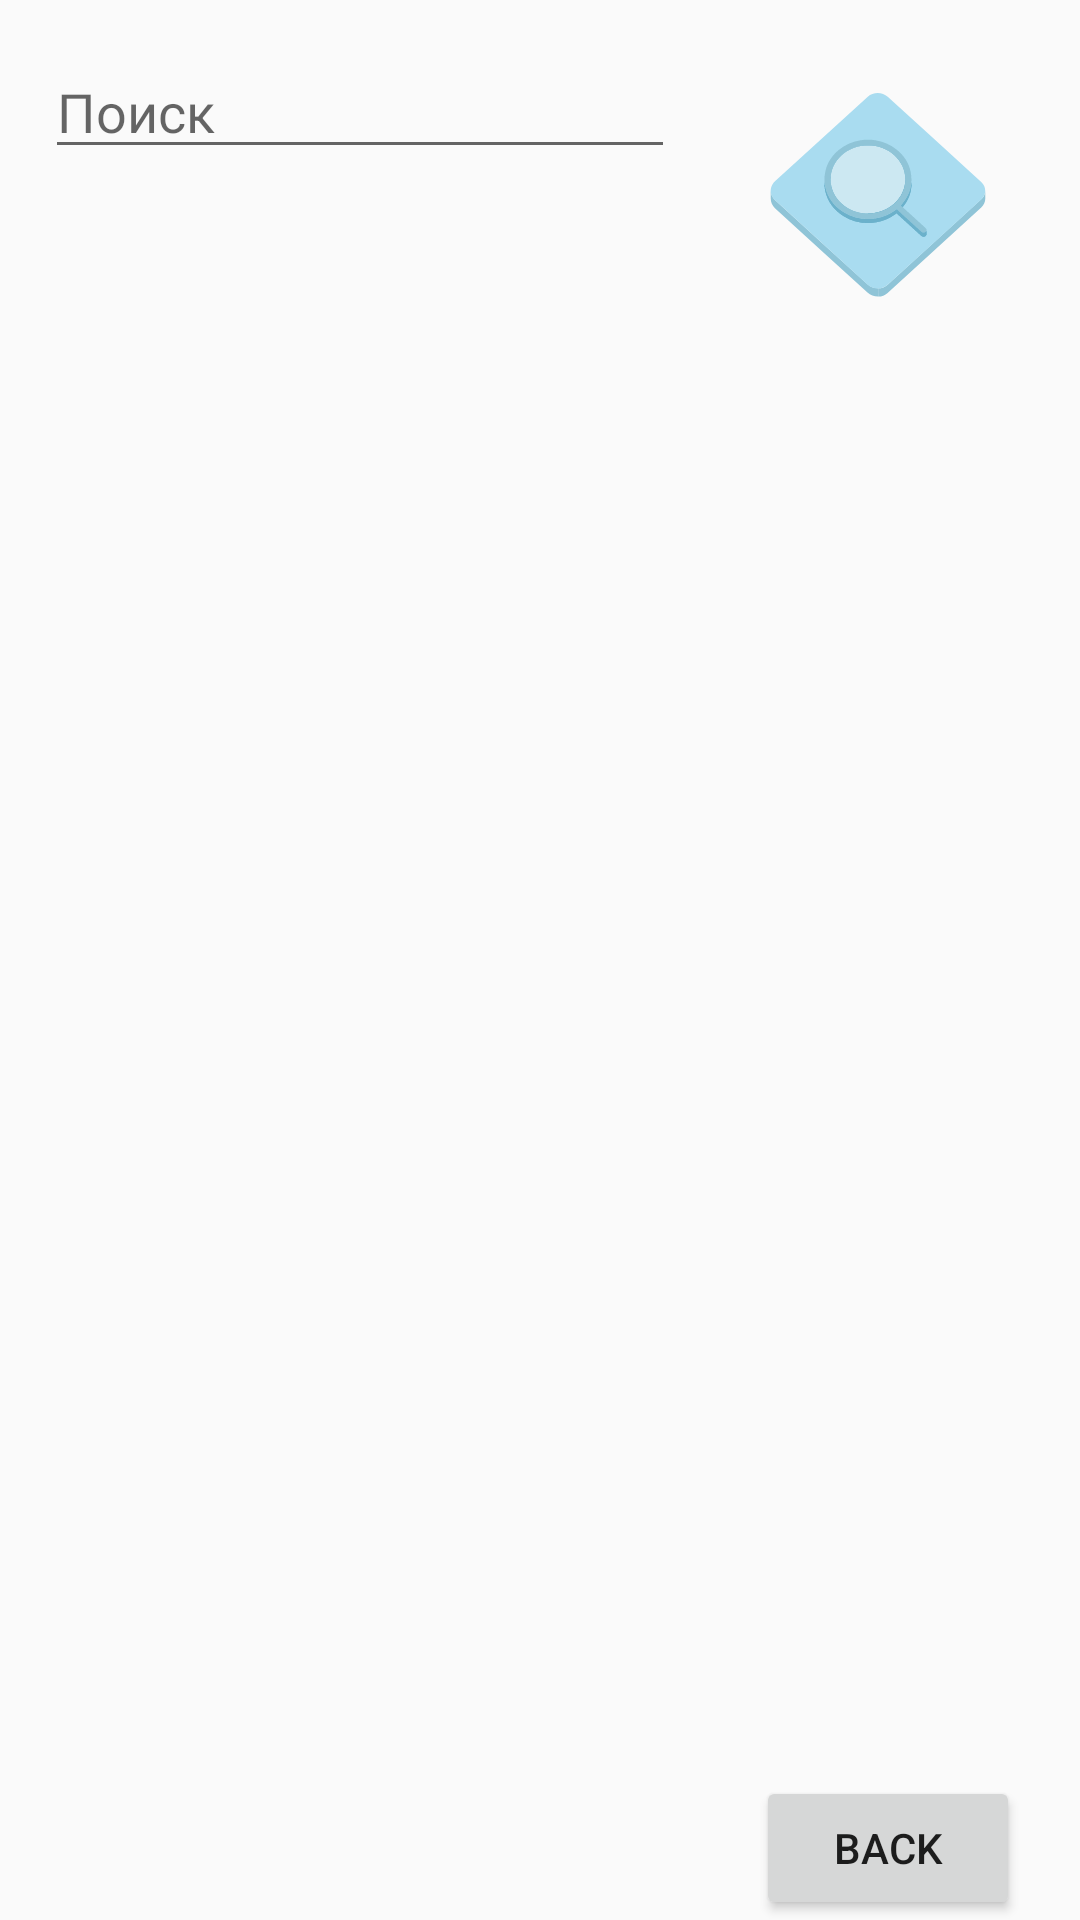

Where icons sit on this 1080x1920 app screen, as (x1, y1, x2, y2):
search second: (770, 93, 986, 297)
